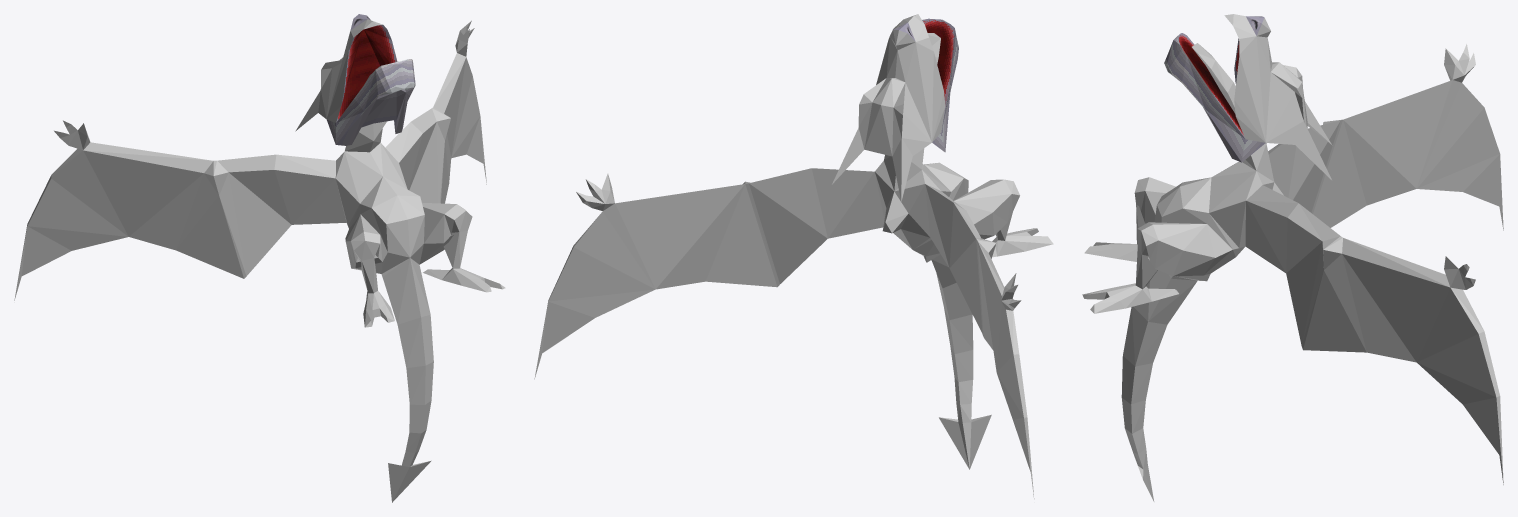
Rendered from BR_Aerodactyl-Shiny01.obj.
3 renders of one model, left to right at view 1: azimuth 30°, elevation 25°; view 2: azimuth 150°, elevation 25°; view 3: azimuth 270°, elevation 25°, orthographic. The views are drawn at different scales.
Parts seen in each view (by area): view 1: ptera; view 2: ptera; view 3: ptera.
Boxes of the visible parts, x1=… form: ptera: x1=14, y1=14, x2=505, y2=502; ptera: x1=534, y1=14, x2=1053, y2=499; ptera: x1=1082, y1=14, x2=1503, y2=501.
Bounding box in the file's own units: 39.69 × 36.2 × 27.76.
